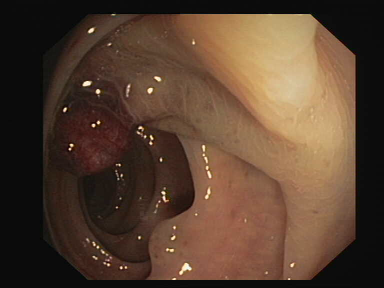polyp: (41, 45, 139, 184)
